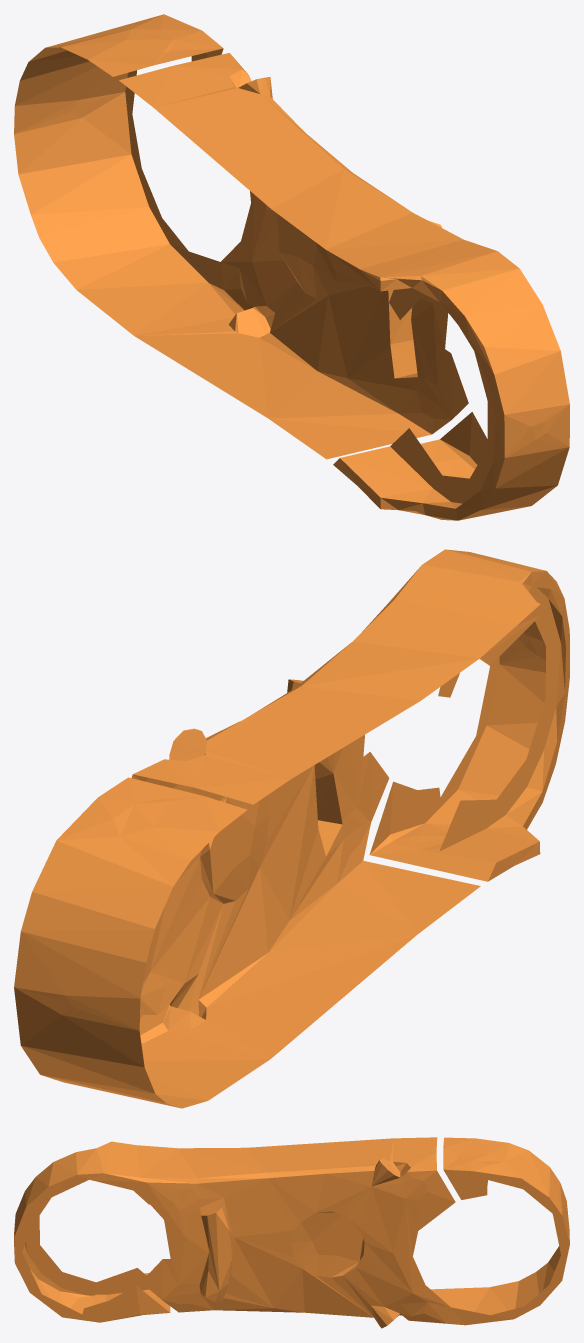
The model's file is youbot_test_export_urdf_ME_Arm3_01_sub1_sub0_sub0_vis_1.dae.
3 views of the same model, one above another, from view 1: azimuth 30°, elevation 25°; view 2: azimuth 150°, elevation 25°; view 3: azimuth 270°, elevation 25° (orthographic). The views are drawn at different scales.
Parts seen in each view (by area): view 1: Node_0000015E15F56440; view 2: Node_0000015E15F56440; view 3: Node_0000015E15F56440.
Part boxes in pixels (bbox=[...]): Node_0000015E15F56440: bbox=[14, 14, 569, 520]; Node_0000015E15F56440: bbox=[14, 549, 569, 1108]; Node_0000015E15F56440: bbox=[14, 1137, 569, 1328].
Size of the model in its own units: 0.0364 by 0.0638 by 0.1921.
